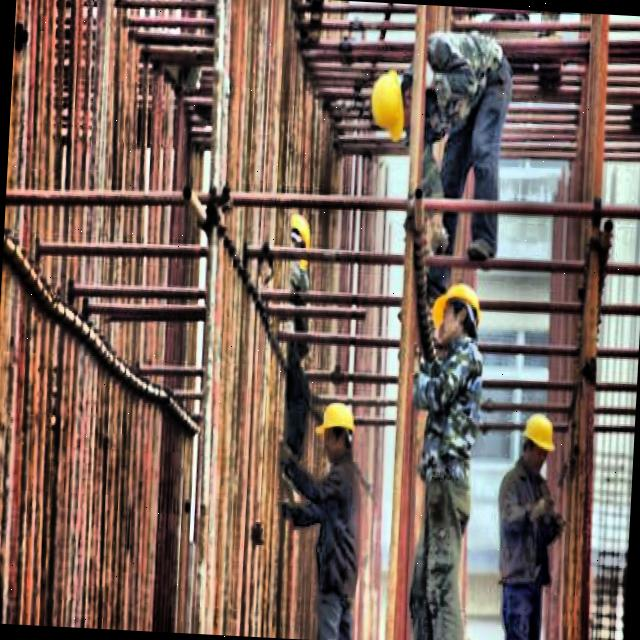helmet: (426, 274, 493, 356), (366, 64, 412, 146), (316, 396, 359, 469), (278, 209, 320, 278), (517, 409, 559, 474)
